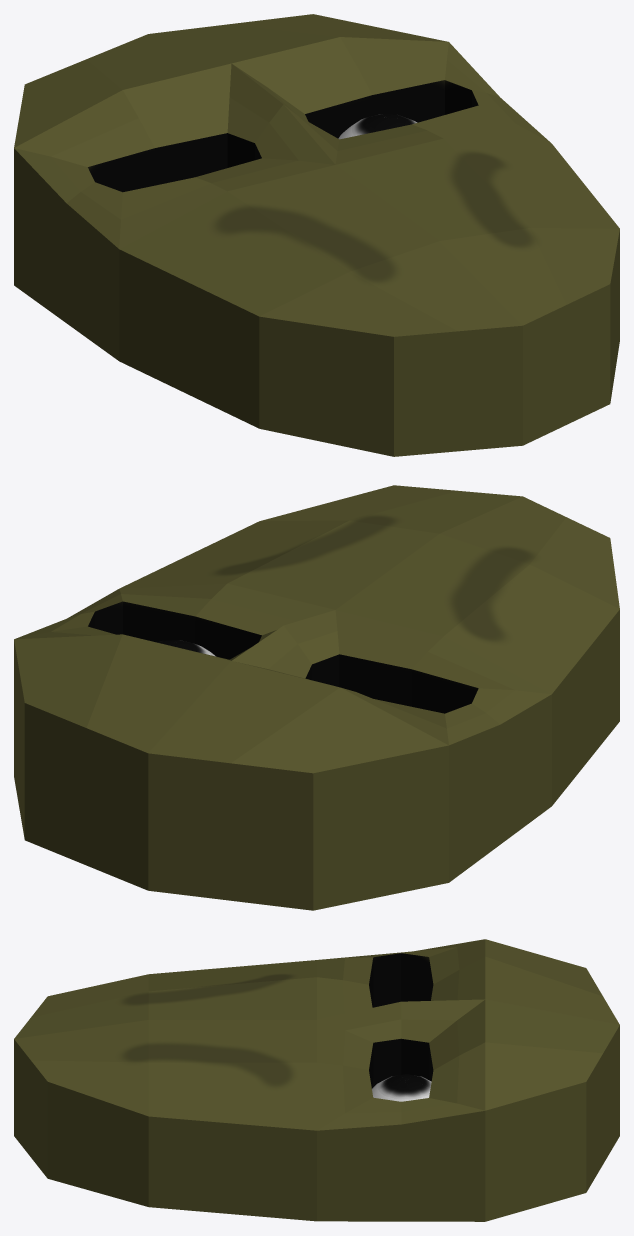
The model's file is Player.glb.
3 renders of one model, top to bottom at view 1: azimuth 30°, elevation 25°; view 2: azimuth 150°, elevation 25°; view 3: azimuth 270°, elevation 25°, orthographic. The views are drawn at different scales.
Parts seen in each view (by area): view 1: Cube, Icosphere; view 2: Cube; view 3: Cube, Icosphere.
Boxes of the visible parts, box(x1,y1,x2,y2) form: Cube: box(14, 14, 619, 456); Icosphere: box(338, 114, 417, 139); Cube: box(14, 485, 619, 910); Cube: box(14, 939, 619, 1221); Icosphere: box(372, 1074, 431, 1101).
Size of the model in its own units: 1.21 by 0.4476 by 1.8.
Materials: 2 (2 with a texture image).
